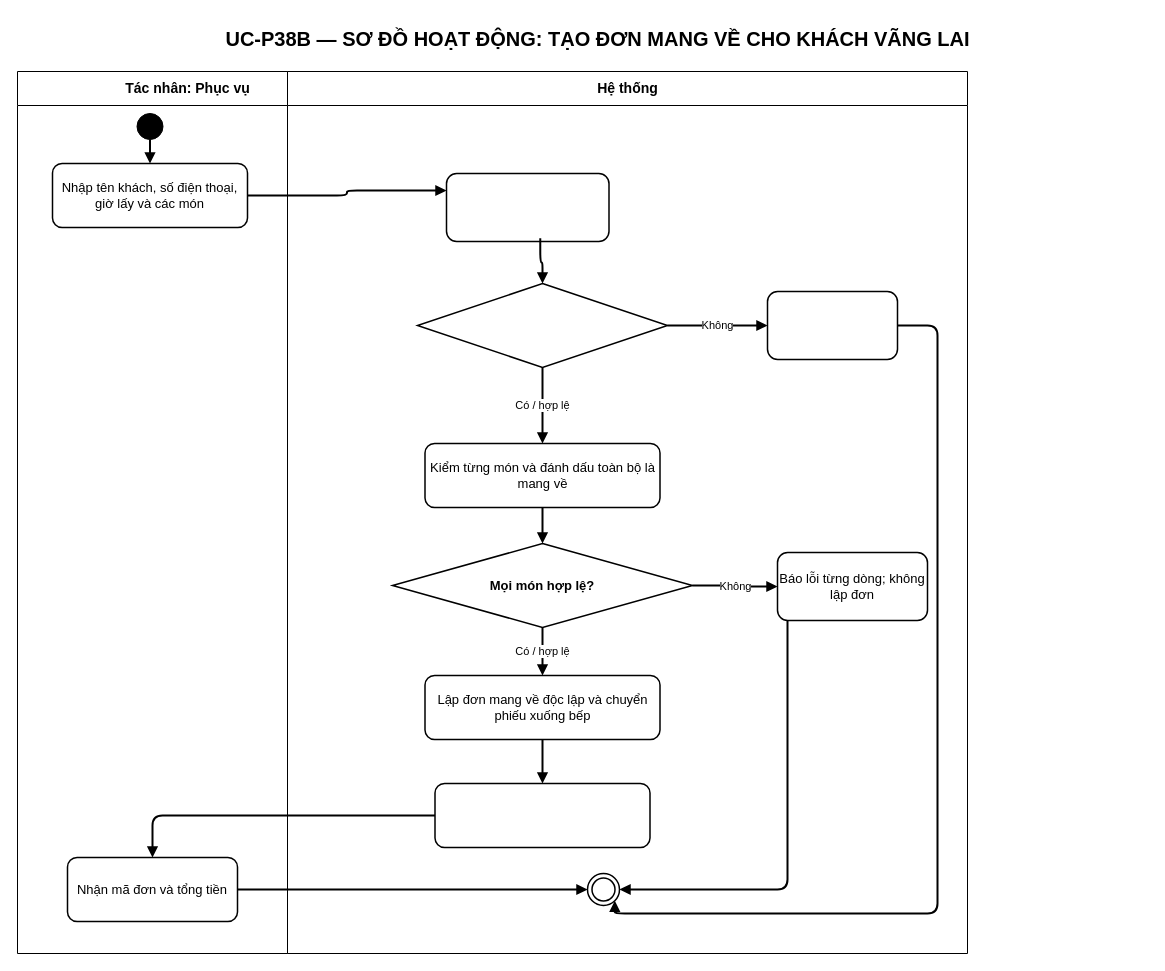
Image size: 1165x971. Some labels were removed from this diagram. The centre of each missing label's shape, as x and y in pixels:
"Báo bếp chuẩn bị đơn mang về" belongs at point 542,815.
"Báo thiếu thông tin bắt buộc" belongs at point 832,325.
"Có tên khách và ít nhất một món?" belongs at point 542,325.
"Kiểm tra thông tin" belongs at point 527,207.
